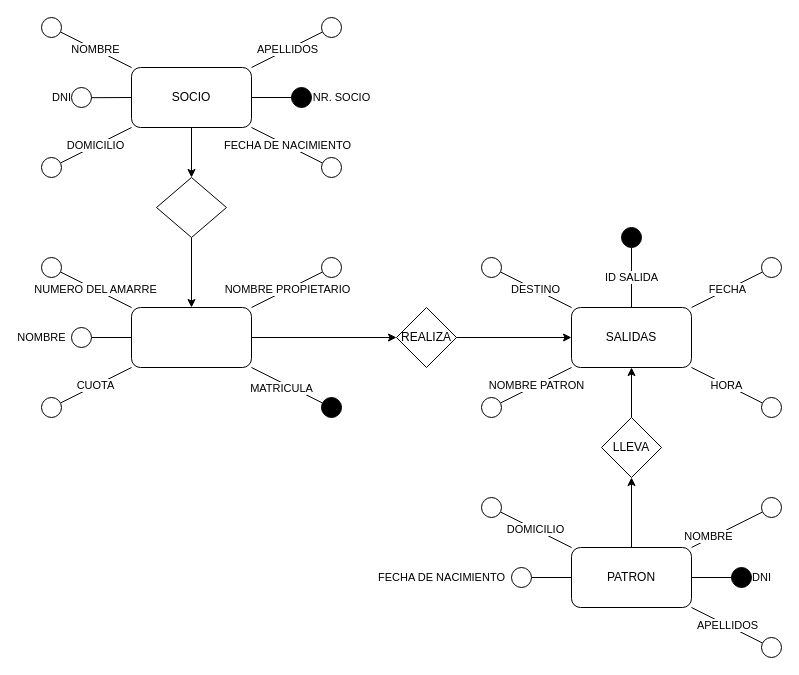
Some shapes in this 799 by 675 pixel diagram are drawn without their labels. Each missing label, with the centre of its shape:
"BARCO" goes at (x=191, y=337).
"POSEE" goes at (x=191, y=207).
